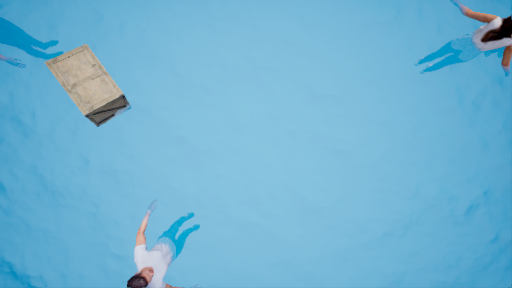person: (415, 1, 512, 82), (128, 198, 197, 287)
